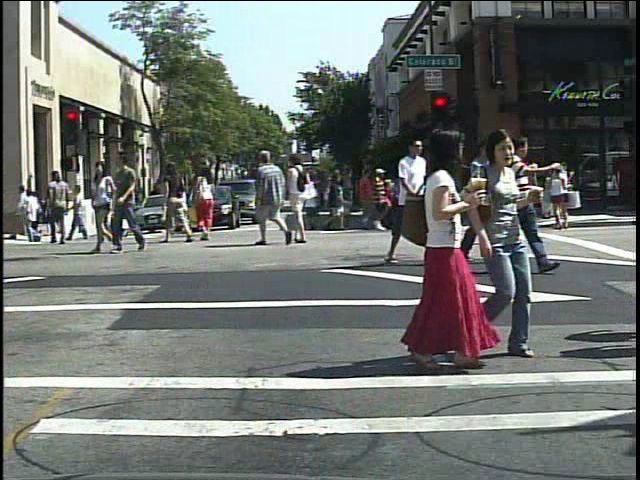person: (400, 123, 493, 378), (466, 128, 549, 361), (394, 132, 453, 270), (509, 131, 561, 277), (451, 132, 501, 262), (498, 136, 546, 248), (111, 147, 153, 256), (250, 146, 291, 249), (88, 160, 121, 256), (159, 159, 189, 244), (287, 153, 314, 245), (192, 163, 219, 242), (44, 173, 72, 245), (90, 168, 116, 245), (490, 163, 517, 232), (368, 165, 391, 235)
